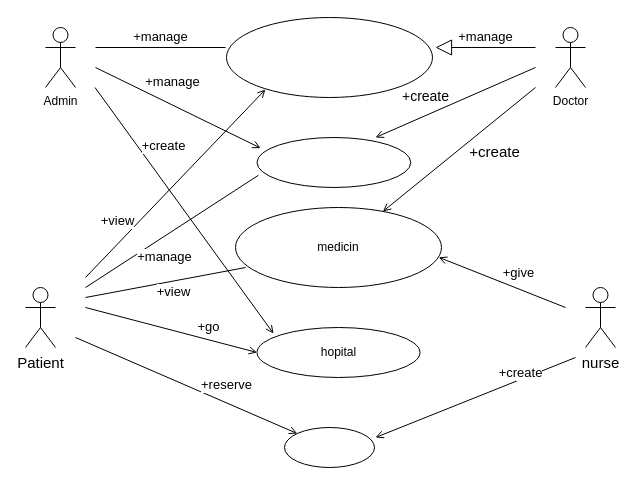
This 637x485 diagram has some shape labels left out. Here are the shapes that lost their labels. From the top down, the centre of each, then its label:
At [329,57]: "appointments".
At [333,162]: "report".
At [329,447]: "room".
